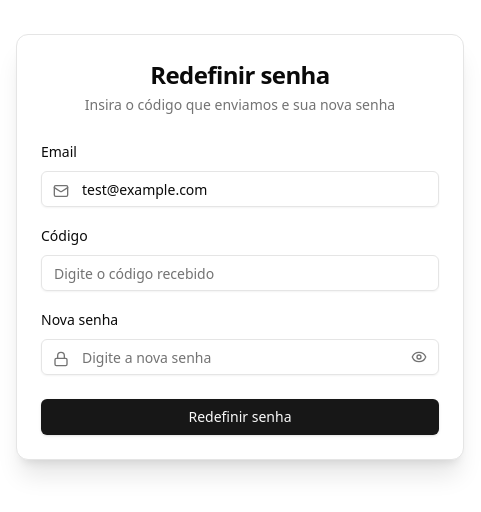
it: ResetPasswordForm › mostra erro se campos estão vazios
Click the button "Redefinir senha": (240, 417) x1=41 y1=399 x2=439 y2=435
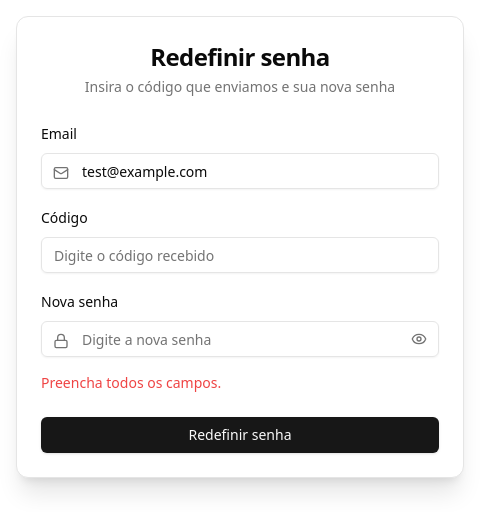
expect the text "Preencha todos os campos." is shown: met, box x1=41 y1=373 x2=221 y2=392
